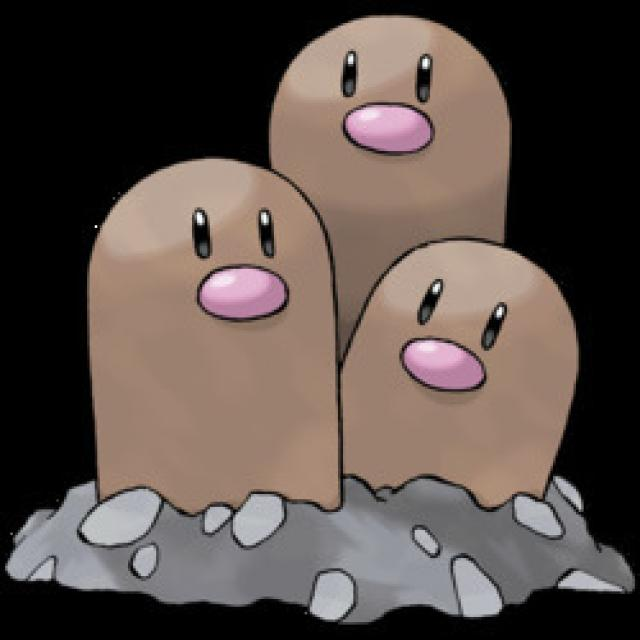Dugtrio: (89, 12, 566, 490)
